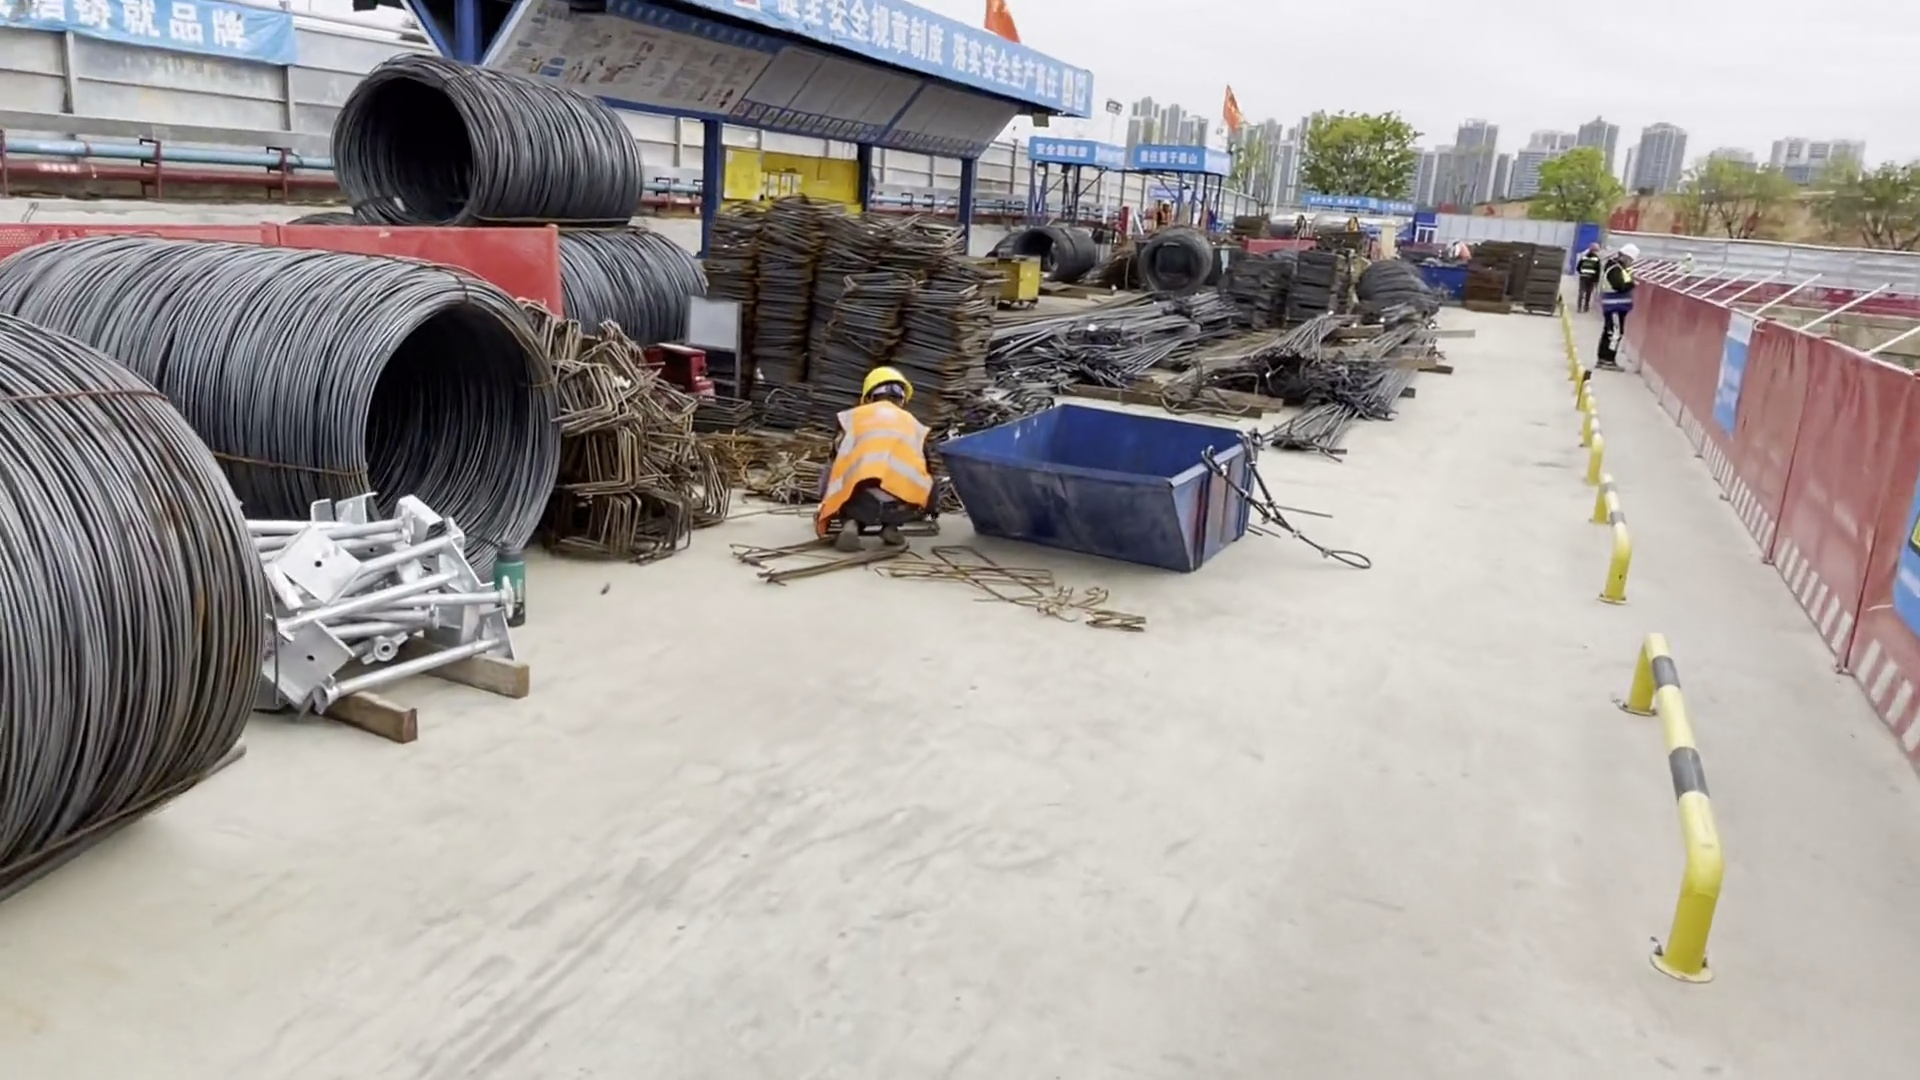ebox: (722, 148, 814, 213), (1005, 248, 1045, 315)
fence: (1695, 298, 1920, 849)
helmet: (857, 358, 919, 393), (1621, 244, 1642, 263), (1587, 240, 1601, 252), (1452, 238, 1459, 245)
hopper: (947, 400, 1258, 573)
person: (817, 371, 946, 541), (1602, 240, 1642, 383), (1570, 228, 1600, 320), (1157, 200, 1177, 234), (1450, 237, 1469, 264)
slogan: (779, 1, 1094, 109), (65, 3, 281, 60), (1706, 317, 1770, 431), (1140, 148, 1198, 168), (1038, 140, 1088, 159)
vest: (841, 411, 930, 512), (1604, 264, 1638, 315), (1579, 252, 1598, 277), (1457, 244, 1471, 258)
